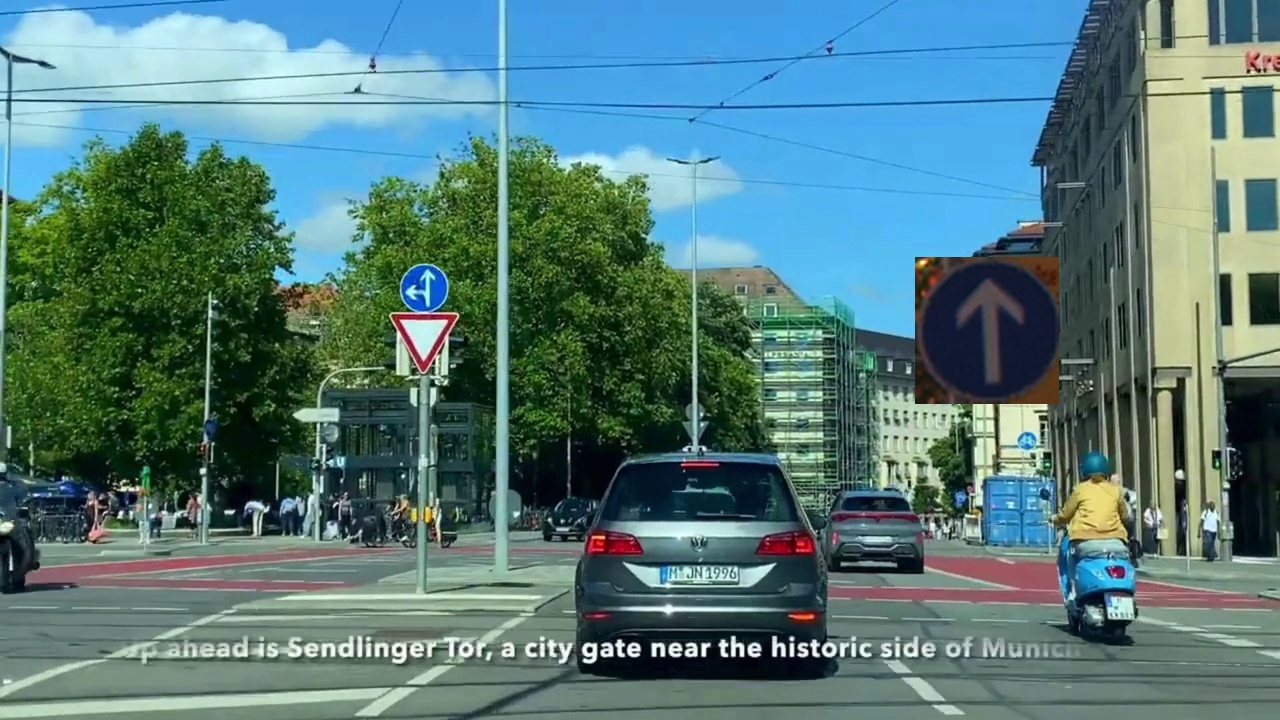Ahead only: (915, 257, 1059, 404)
